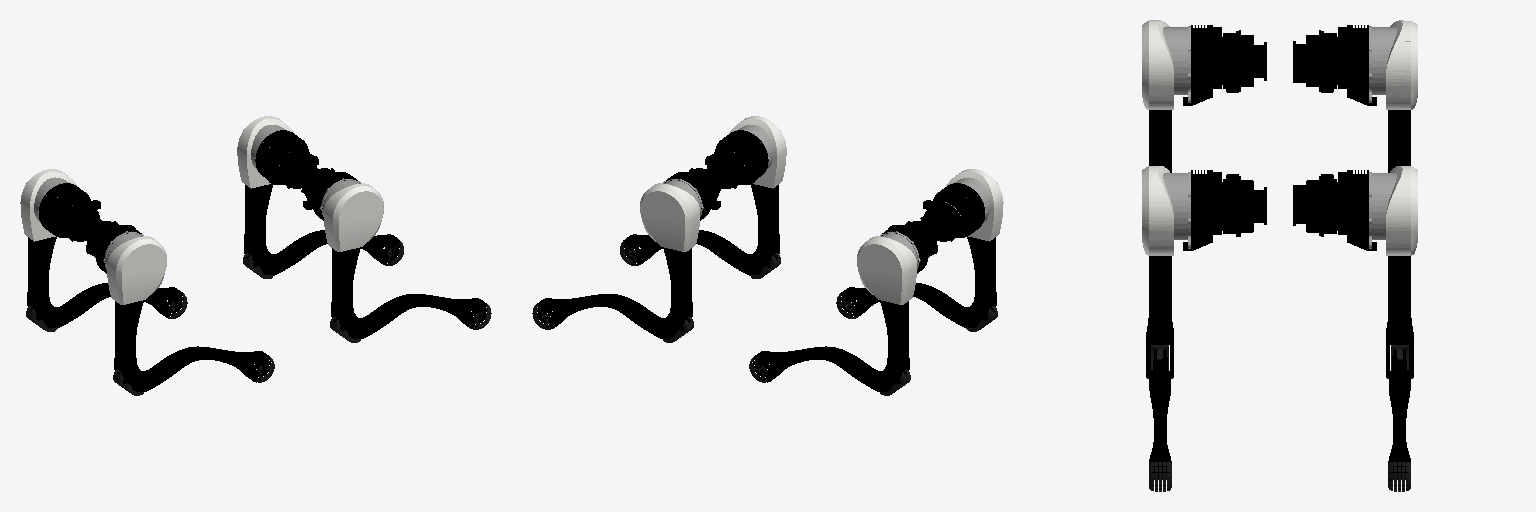
The robot description file, URDF, robot "X20":
<?xml version="1.0" encoding="utf-8"?>
<robot name="X20">
  <link
    name="BASE">
    <inertial>
      <origin
        xyz="0.005 0.000413 0.004"
        rpy="0 0 0" />
      <mass
        value="26.398" />
      <inertia ixx="0.1632" ixy="-5.2136E-05" ixz="-0.00019406" iyy="0.40648" iyz="8.2679E-05" izz="0.52596" />
    </inertial>
    <visual>
      <origin
        xyz="0.005 0.000413 0.004"
        rpy="0 0 0" />
      <geometry>
        <mesh
          filename="package://JYPro/meshes/Torso.dae" />
      </geometry>
      <material
        name="">
        <color
          rgba="0.69804 0.69804 0.69804 1" />
      </material>
    </visual>
    <collision>
      <origin
        xyz="0.005 0.000413 0.004"
        rpy="0 0 0" />
      <geometry>
        <mesh
          filename="package://JYPro/meshes/Torso.dae" />
      </geometry>
    </collision>
  </link>

  <link name="LF_HIP">
    <inertial>
      <origin xyz="-0.00075689 -0.0089129 -5.0528E-05" />
      <mass value="1.5767" />
      <inertia ixx="0.0012141" ixy="6.1989E-06" ixz="2.8652E-06" iyy="0.0016912" iyz="3.7E-06" izz="0.0013431" />
    </inertial>
    <visual>
      <geometry>
        <mesh filename="package://JYPro/meshes/FL_Hip.dae" />
      </geometry>
    </visual>
  </link>

  <joint name="A_LF_HAA" type="revolute">
    <origin xyz="0.292 0.08 0" />
    <parent link="BASE" />
    <child link="LF_HIP" />
    <axis xyz="1 0 0" />
    <limit lower="-0.523" upper="0.261" effort="30" velocity="20" />
  </joint>

  <link name="LF_THIGH">
    <inertial>
      <origin xyz="-0.0025264 -0.022118 -0.0292" />
      <mass value="3.0063" />
      <inertia ixx="0.0058102" ixy="4.2848E-05" ixz="-3.0437E-06" iyy="0.0080686" iyz="-6.889E-05" izz="0.003874" />
    </inertial>
    <visual>
      <geometry>
        <mesh filename="package://JYPro/meshes/L_Thigh.dae" />
      </geometry>
    </visual>
    <collision>
      <origin xyz="0 0 -0.13" />
      <geometry>
        <cylinder length="0.25" radius="0.04"/>
      </geometry>
    </collision>
  </link>

  <joint name="A_LF_HFE" type="revolute">
    <origin xyz="0 0.12325 0" />
    <parent link="LF_HIP" />
    <child link="LF_THIGH" />
    <axis xyz="0 -1 0" />
    <limit lower="-2.53" upper="0.35" effort="40" velocity="20" />
  </joint>

  <link name="LF_SHANK">
    <inertial>
      <origin xyz="0.0075224 2.5888E-05 -0.17586" />
      <mass value="0.54849" />
      <inertia ixx="0.0057" ixy="1.16E-07" ixz="0.000153" iyy="0.006" iyz="-1.12E-06" izz="0.00029" />
    </inertial>
    <visual>
      <geometry>
        <mesh filename="package://JYPro/meshes/Shank.dae" />
      </geometry>
    </visual>
    <collision>
      <origin xyz="0.00 0 -0.33" />
      <geometry>
        <sphere radius="0.036"/>
      </geometry>
    </collision>
  </link>

  <joint name="A_LF_KFE" type="revolute">
    <origin xyz="0 0 -0.3" />
    <parent link="LF_THIGH" />
    <child link="LF_SHANK" />
    <axis xyz="0 -1 0" />
    <limit lower="0.35" upper="2.53" effort="60" velocity="20" />
  </joint>

  <link name="LH_HIP">
    <inertial>
      <origin xyz="0.000757 -0.009 5.053E-05" />
      <mass value="1.5767" />
      <inertia ixx="0.00121" ixy="-6.2E-06" ixz="2.9E-06" iyy="0.0017" iyz="-3.7E-06" izz="0.00134" />
    </inertial>
    <visual>
      <geometry>
        <mesh filename="package://JYPro/meshes/HL_Hip.dae" />
      </geometry>
    </visual>
  </link>

  <joint name="B_LH_HAA" type="revolute">
    <origin xyz="-0.292 0.08 0" />
    <parent link="BASE" />
    <child link="LH_HIP" />
    <axis xyz="1 0 0" />
    <limit lower="-0.523" upper="0.261" effort="30" velocity="20" />
  </joint>

  <link name="LH_THIGH">
    <inertial>
      <origin xyz="-0.0025264 -0.022118 -0.0292" />
      <mass value="3.0063" />
      <inertia ixx="0.0058102" ixy="4.2848E-05" ixz="-3.0433E-06" iyy="0.008" iyz="-6.8889E-05" izz="0.003874" />
    </inertial>
    <visual>
      <geometry>
        <mesh filename="package://JYPro/meshes/L_Thigh.dae" />
      </geometry>
    </visual>
    <collision>
      <origin xyz="0 0 -0.13" />
      <geometry>
        <cylinder length="0.25" radius="0.04"/>
      </geometry>
    </collision>
  </link>

  <joint name="B_LH_HFE" type="revolute">
    <origin xyz="0 0.12325 0" />
    <parent link="LH_HIP" />
    <child link="LH_THIGH" />
    <axis xyz="0 -1 0" />
    <limit lower="-2.53" upper="0.35" effort="40" velocity="20" />
  </joint>

  <link name="LH_SHANK">
    <inertial>
      <origin xyz="0.0075224 2.5888E-05 -0.17586" />
      <mass value="0.54849" />
      <inertia ixx="0.0057" ixy="1.16E-07" ixz="0.000153" iyy="0.006" iyz="-1.12E-06" izz="0.00029" />
    </inertial>
    <visual>
      <geometry>
        <mesh filename="package://JYPro/meshes/Shank.dae" />
      </geometry>
    </visual>
    <collision>
      <origin xyz="0.00 0 -0.33" />
      <geometry>
        <sphere radius="0.036"/>
      </geometry>
    </collision>
  </link>

  <joint name="B_LH_KFE" type="revolute">
    <origin xyz="0 0 -0.3" />
    <parent link="LH_THIGH" />
    <child link="LH_SHANK" />
    <axis xyz="0 -1 0" />
    <limit lower="0.35" upper="2.53" effort="60" velocity="20" />
  </joint>

  <link name="RF_HIP">
    <inertial>
      <origin xyz="-0.000757 0.009 5.0528E-05" />
      <mass value="1.5767" />
      <inertia ixx="0.0012141" ixy="-6.1989E-06" ixz="-2.8652E-06" iyy="0.0016912" iyz="3.7E-06" izz="0.0013431" />
    </inertial>
    <visual>
      <geometry>
        <mesh filename="package://JYPro/meshes/FR_Hip.dae" />
      </geometry>
    </visual>
  </link>

  <joint name="A_RF_HAA" type="revolute">
    <origin xyz="0.292 -0.08 0" />
    <parent link="BASE" />
    <child link="RF_HIP" />
    <axis xyz="-1 0 0" />
    <limit lower="-0.523" upper="0.261" effort="30" velocity="20" />
  </joint>

  <link name="RF_THIGH">
    <inertial>
      <origin xyz="-0.0025266 0.022119 -0.029194" />
      <mass value="3.0062" />
      <inertia ixx="0.00581" ixy="-4.2781E-05" ixz="-3.0682E-06" iyy="0.0080684" iyz="6.8812E-05" izz="0.0038739" />
    </inertial>
    <visual>
      <geometry>
        <mesh filename="package://JYPro/meshes/R_Thigh.dae" />
      </geometry>
    </visual>
    <collision>
      <origin xyz="0 0 -0.13" />
      <geometry>
        <cylinder length="0.25" radius="0.04"/>
      </geometry>
    </collision>
  </link>

  <joint name="A_RF_HFE" type="revolute">
    <origin xyz="0 -0.12325 0" />
    <parent link="RF_HIP" />
    <child link="RF_THIGH" />
    <axis xyz="0 -1 0" />
    <limit lower="-2.53" upper="0.35" effort="40" velocity="20" />
  </joint>

  <link name="RF_SHANK">
    <inertial>
      <origin xyz="0.0075224 2.5888E-05 -0.17586" />
      <mass value="0.54849" />
      <inertia ixx="0.0057" ixy="1.16E-07" ixz="0.000153" iyy="0.006" iyz="-1.12E-06" izz="0.00029" />
    </inertial>
    <visual>
      <geometry>
        <mesh filename="package://JYPro/meshes/Shank.dae" />
      </geometry>
    </visual>
    <collision>
      <origin xyz="0.00 0 -0.33" />
      <geometry>
        <sphere radius="0.036"/>
      </geometry>
    </collision>
  </link>

  <joint name="A_RF_KFE" type="revolute">
    <origin xyz="0 0 -0.3" />
    <parent link="RF_THIGH" />
    <child link="RF_SHANK" />
    <axis xyz="0 -1 0" />
    <limit lower="0.35" upper="2.53" effort="60" velocity="20" />
  </joint>

  <link name="RH_HIP">
    <inertial>
      <origin xyz="0.00075689 0.0089129 -5.0528E-05" />
      <mass value="1.5767" />
      <inertia ixx="0.0012141" ixy="6.1989E-06" ixz="-2.8652E-06" iyy="0.0016912" iyz="-3.7E-06" izz="0.0013431" />
    </inertial>
    <visual>
      <geometry>
        <mesh filename="package://JYPro/meshes/HR_Hip.dae" />
      </geometry>
    </visual>
  </link>

  <joint name="B_RH_HAA" type="revolute">
    <origin xyz="-0.292 -0.08 0" />
    <parent link="BASE" />
    <child link="RH_HIP" />
    <axis xyz="-1 0 0" />
    <limit lower="-0.523" upper="0.261" effort="30" velocity="20" />
  </joint>

  <link name="RH_THIGH">
    <inertial>
      <origin xyz="-0.0025266 0.022119 -0.029194" />
      <mass value="3.0062" />
      <inertia ixx="0.00581" ixy="-4.2781E-05" ixz="-3.0681E-06" iyy="0.0080684" iyz="6.8812E-05" izz="0.0038739" />
    </inertial>
    <visual>
      <geometry>
        <mesh filename="package://JYPro/meshes/R_Thigh.dae" />
      </geometry>
    </visual>
    <collision>
      <origin xyz="0 0 -0.13" />
      <geometry>
        <cylinder length="0.25" radius="0.04"/>
      </geometry>
    </collision>
  </link>

  <joint name="B_RH_HFE" type="revolute">
    <origin xyz="0 -0.12325 0" />
    <parent link="RH_HIP" />
    <child link="RH_THIGH" />
    <axis xyz="0 -1 0" />
    <limit lower="-2.53" upper="0.35" effort="40" velocity="20" />
  </joint>

  <link name="RH_SHANK">
    <inertial>
      <origin xyz="0.0075224 2.589E-05 -0.17586" />
      <mass value="0.54849" />
      <inertia ixx="0.0056981" ixy="1.1608E-07" ixz="0.00015292" iyy="0.0059026" iyz="-1.1243E-06" izz="0.00028822" />
    </inertial>
    <visual>
      <geometry>
        <mesh filename="package://JYPro/meshes/Shank.dae" />
      </geometry>
    </visual>
    <collision>
      <origin xyz="0.00 0 -0.33" />
      <geometry>
        <sphere radius="0.036"/>
      </geometry>
    </collision>
  </link>

  <joint name="B_RH_KFE" type="revolute">
    <origin xyz="0 0 -0.3" />
    <parent link="RH_THIGH" />
    <child link="RH_SHANK" />
    <axis xyz="0 -1 0" />
    <limit lower="0.35" upper="2.53" effort="60" velocity="20" />
  </joint>
</robot>

--- Render facts (derived) ---
3 views of the same robot in one strip: view 1: azimuth 30°, elevation 25°; view 2: azimuth 150°, elevation 25°; view 3: azimuth 270°, elevation 25° (orthographic).
Robot: X20 — 13 links, 12 joints (12 revolute); root link BASE; default pose: joints at zero except 4 at the middle of their limits (A_LF_KFE = 1.44, B_LH_KFE = 1.44, A_RF_KFE = 1.44, B_RH_KFE = 1.44).
Visible links, largest first — view 1: RH_THIGH, RF_THIGH, LH_THIGH, LF_THIGH, RF_SHANK, RH_SHANK, LF_SHANK, LH_SHANK, LF_HIP, LH_HIP, RF_HIP; view 2: LH_THIGH, LF_THIGH, RH_THIGH, RF_THIGH, LF_SHANK, LH_SHANK, RF_SHANK, RH_SHANK, RH_HIP, RF_HIP, LF_HIP; view 3: LF_THIGH, RF_THIGH, RH_THIGH, LH_THIGH, LF_SHANK, RF_SHANK, LF_HIP, LH_HIP, RF_HIP, RH_HIP.
Link boxes in pixels (left/top/right/bottom): RH_THIGH: left=95, top=225, right=166, bottom=391; RF_THIGH: left=312, top=172, right=383, bottom=338; LH_THIGH: left=20, top=169, right=90, bottom=327; LF_THIGH: left=237, top=116, right=308, bottom=274; RF_SHANK: left=330, top=294, right=491, bottom=342; RH_SHANK: left=113, top=346, right=274, bottom=395; LF_SHANK: left=243, top=230, right=403, bottom=278; LH_SHANK: left=26, top=283, right=187, bottom=331; LF_HIP: left=269, top=145, right=318, bottom=188; LH_HIP: left=51, top=198, right=101, bottom=241; RF_HIP: left=301, top=168, right=334, bottom=209; LH_THIGH: left=857, top=225, right=928, bottom=391; LF_THIGH: left=640, top=172, right=711, bottom=338; RH_THIGH: left=933, top=169, right=1003, bottom=327; RF_THIGH: left=715, top=116, right=786, bottom=274; LF_SHANK: left=532, top=294, right=693, bottom=342; LH_SHANK: left=749, top=346, right=910, bottom=395; RF_SHANK: left=620, top=230, right=780, bottom=278; RH_SHANK: left=836, top=283, right=997, bottom=331; RH_HIP: left=920, top=198, right=972, bottom=241; RF_HIP: left=705, top=145, right=754, bottom=188; LF_HIP: left=689, top=168, right=722, bottom=209; LF_THIGH: left=1338, top=166, right=1417, bottom=378; RF_THIGH: left=1142, top=166, right=1221, bottom=378; RH_THIGH: left=1142, top=20, right=1221, bottom=172; LH_THIGH: left=1338, top=20, right=1417, bottom=172; LF_SHANK: left=1388, top=345, right=1410, bottom=491; RF_SHANK: left=1149, top=345, right=1171, bottom=491; LF_HIP: left=1293, top=174, right=1339, bottom=236; LH_HIP: left=1293, top=30, right=1339, bottom=92; RF_HIP: left=1220, top=174, right=1266, bottom=236; RH_HIP: left=1220, top=30, right=1266, bottom=92.
Size in the robot's own frame: 1.02 by 0.47 by 0.447 metres.
12 mesh visuals loaded from 8 distinct referenced files (7 Collada DAE); not drawn: 1 (reference not matched to a file when rendering).